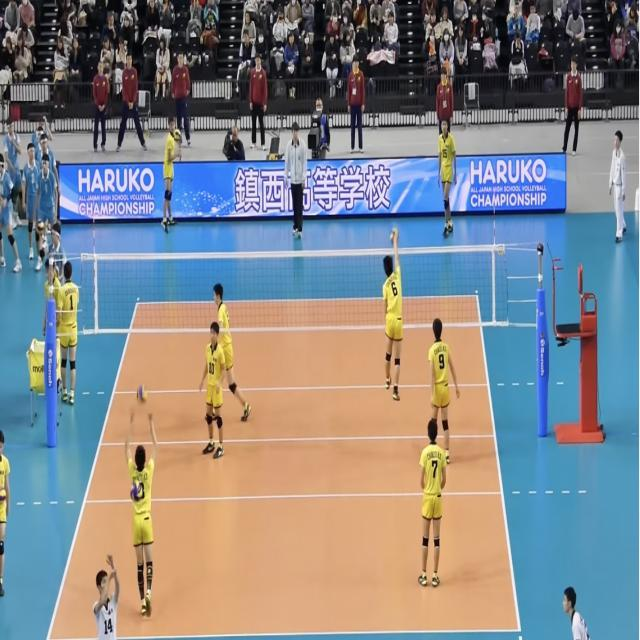spike: (382, 224, 409, 408)
